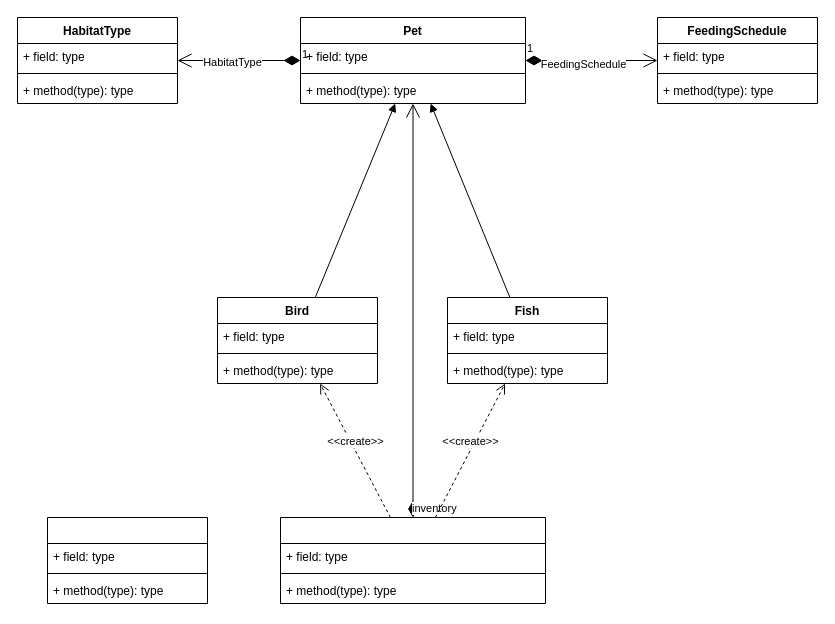
Image size: 835x624. Some labels were removed from this diagram. The shapes that lost their labels are listed below. From the top down, each one's box as (x1, y1, x2, y2) in pixels, then its label:
(46, 516, 208, 604): Input
(280, 516, 546, 604): PetStoreApp
